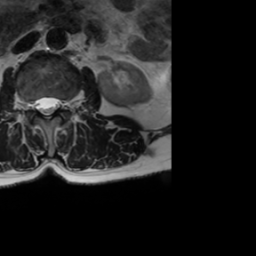CCS_normal: (42, 89, 51, 126)
LFS_normal: (60, 88, 68, 118)
LLS_normal: (51, 89, 60, 118)
RFS_normal: (25, 90, 33, 117)
RLS_normal: (33, 90, 42, 116)
